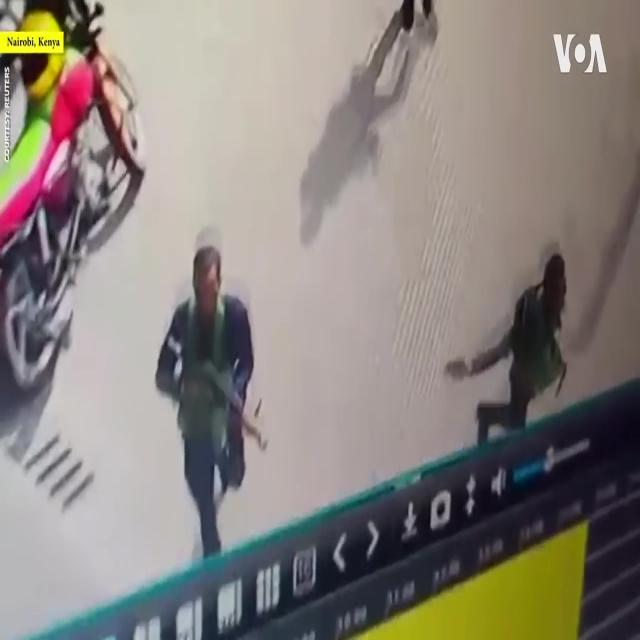Weapon: (165, 306, 272, 470), (499, 305, 576, 406)
